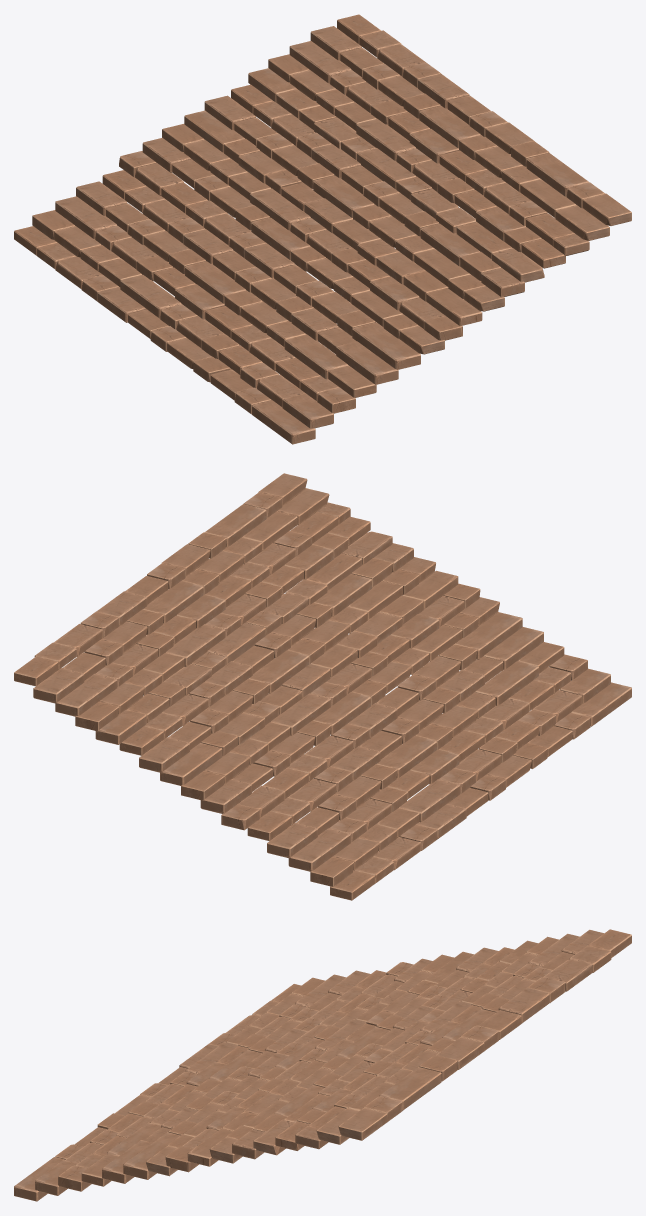
File: SM_Stair_02.fbx
The picture shows the model from 3 angles, top to bottom: view 1: azimuth 30°, elevation 25°; view 2: azimuth 150°, elevation 25°; view 3: azimuth 330°, elevation 25°; orthographic projection.
Visible parts, largest first — view 1: SM_Stair_02_LOD0; view 2: SM_Stair_02_LOD0; view 3: SM_Stair_02_LOD0.
Boxes of the visible parts, bbox=[...] form: SM_Stair_02_LOD0: bbox=[14, 14, 631, 444]; SM_Stair_02_LOD0: bbox=[14, 473, 631, 900]; SM_Stair_02_LOD0: bbox=[14, 929, 631, 1201].
Size of the model in its own units: 869 by 1225 by 350.
1 material, 1 textured.
